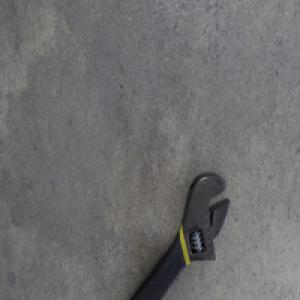AdjustableWrench: (128, 173, 230, 299)
